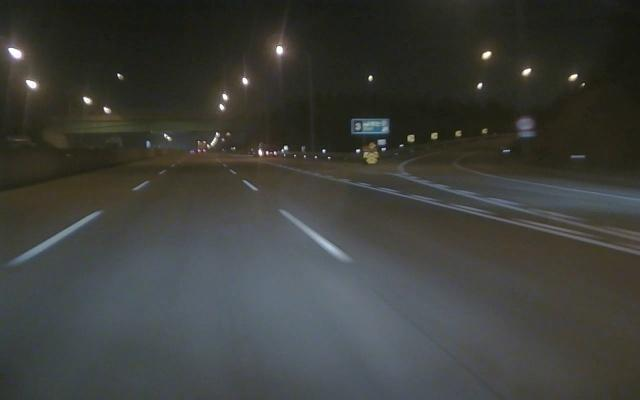lane: (340, 179, 637, 256), (3, 181, 146, 270), (243, 181, 359, 264)
